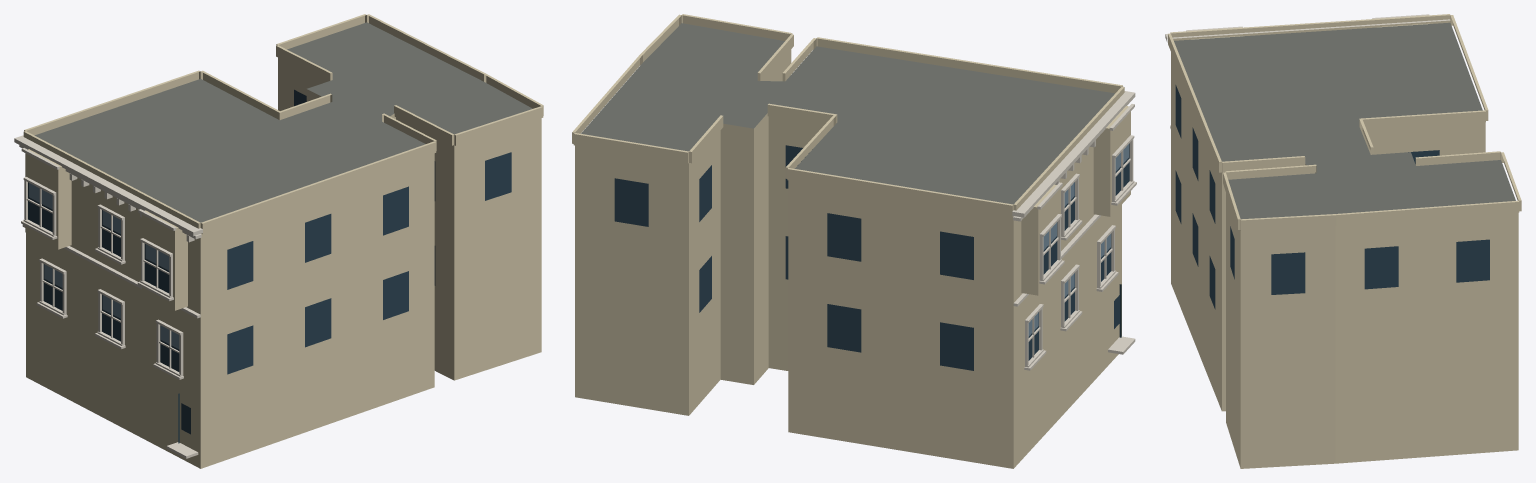
The picture shows the model from 3 angles, left to right: view 1: azimuth 30°, elevation 25°; view 2: azimuth 150°, elevation 25°; view 3: azimuth 270°, elevation 25°; orthographic projection. The views are drawn at different scales.
Visible parts, largest first — view 1: Footprint 0 / surface 2, Footprint 0 / surface 1, Facade bay volumes, Inset glazing, Cornices and window frames, Sky reflection panels; view 2: Footprint 0 / surface 2, Footprint 0 / surface 1, Facade bay volumes, Inset glazing, Cornices and window frames, Sky reflection panels; view 3: Footprint 0 / surface 2, Footprint 0 / surface 1, Facade bay volumes, Inset glazing, Cornices and window frames.
Part boxes in pixels (box(x1,y1,x2,y2)): Footprint 0 / surface 2: box(26, 57, 541, 468); Footprint 0 / surface 1: box(34, 22, 532, 222); Facade bay volumes: box(23, 14, 543, 310); Inset glazing: box(28, 89, 511, 434); Cornices and window frames: box(14, 135, 202, 458); Sky reflection panels: box(29, 183, 179, 348); Footprint 0 / surface 2: box(575, 49, 1121, 468); Footprint 0 / surface 1: box(581, 23, 1114, 204); Facade bay volumes: box(572, 14, 1130, 295); Inset glazing: box(614, 143, 1129, 370); Cornices and window frames: box(1012, 91, 1136, 370); Sky reflection panels: box(1028, 144, 1128, 336); Footprint 0 / surface 2: box(1171, 52, 1518, 468); Footprint 0 / surface 1: box(1174, 22, 1515, 219); Facade bay volumes: box(1168, 14, 1521, 231); Inset glazing: box(1175, 85, 1489, 309); Cornices and window frames: box(1165, 14, 1450, 128).
Size of the model in its own units: 21.35 by 11.63 by 15.03.
